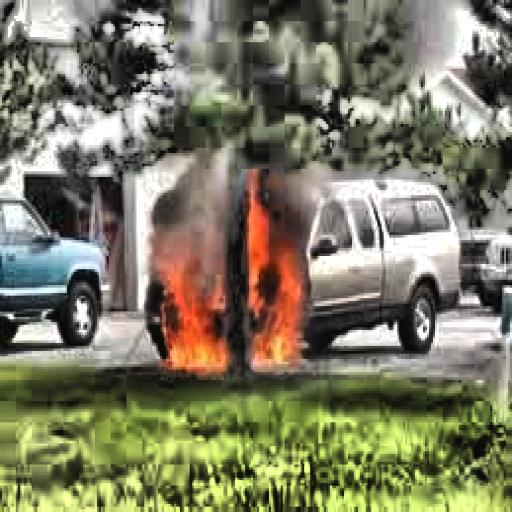fire: (146, 161, 316, 383)
